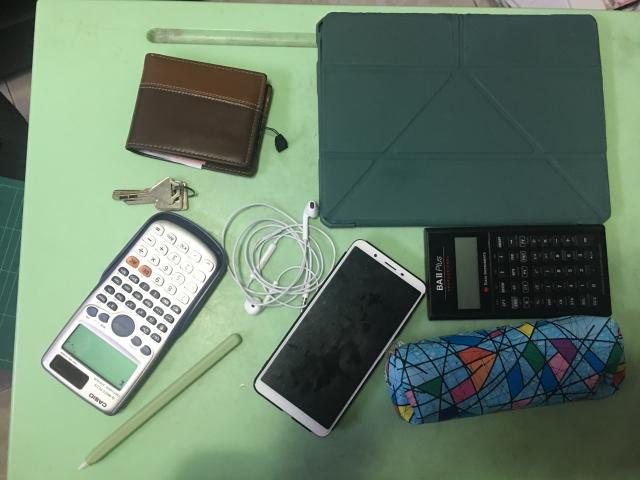Keys: (112, 178, 194, 210)
Mobile phone: (254, 240, 425, 436)
Wallet: (125, 54, 272, 176)
wire: (221, 201, 336, 315)
